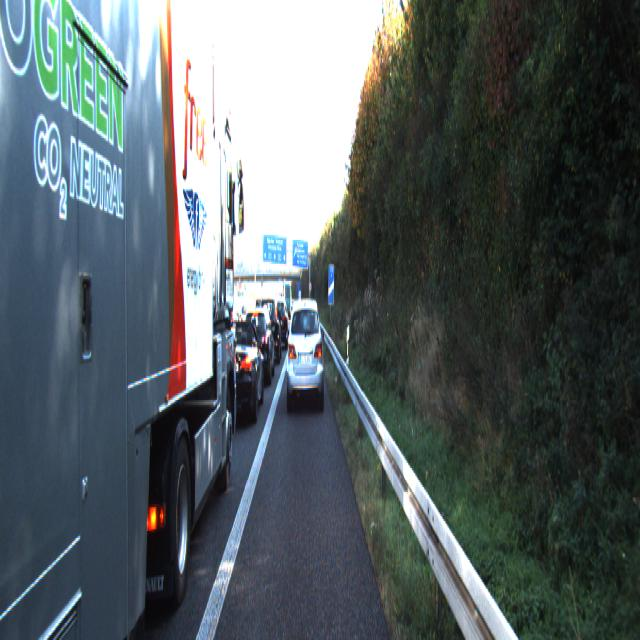Car: (13, 0, 239, 639), (212, 318, 264, 428), (286, 294, 324, 412), (240, 305, 276, 386), (256, 298, 282, 368)
